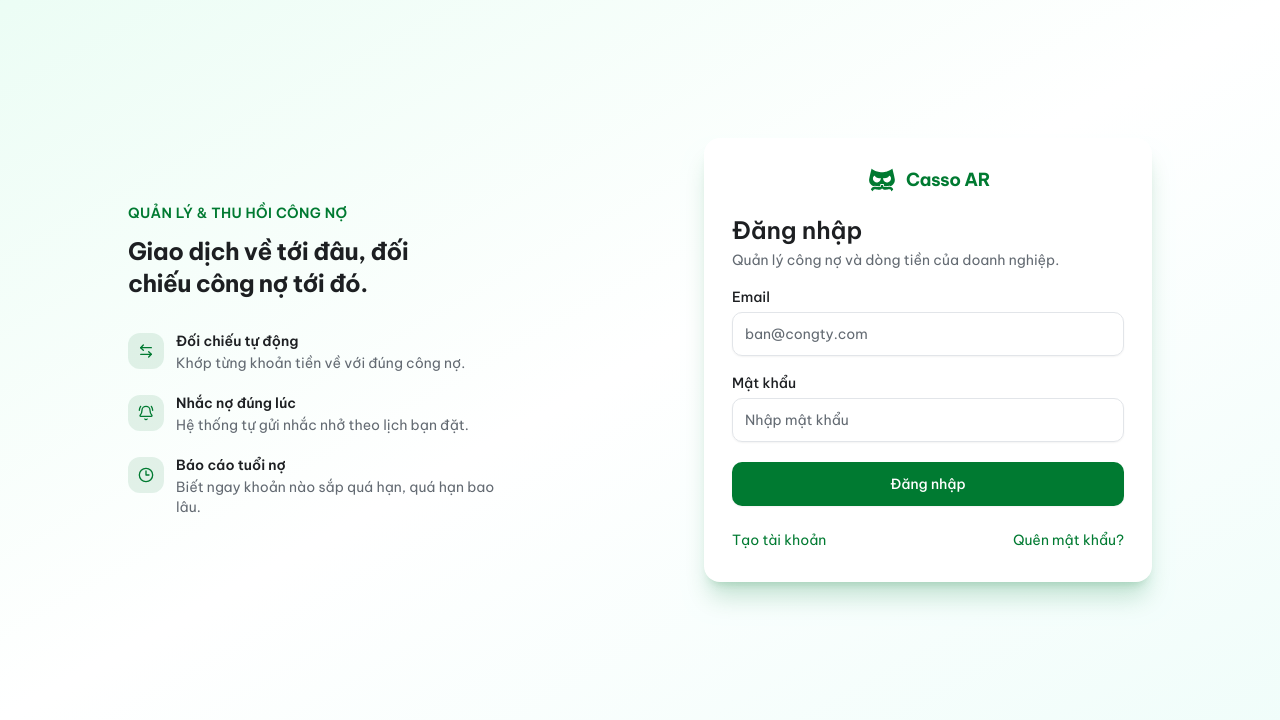
Test: LoginPage › tells a rate-limited user to wait instead of blaming their password
This screenshot has width=1280, height=720.
Type "owner@casso.vn" into the field labelled "Email" at (928,334), box top-left (732, 312), bottom-right (1124, 356)
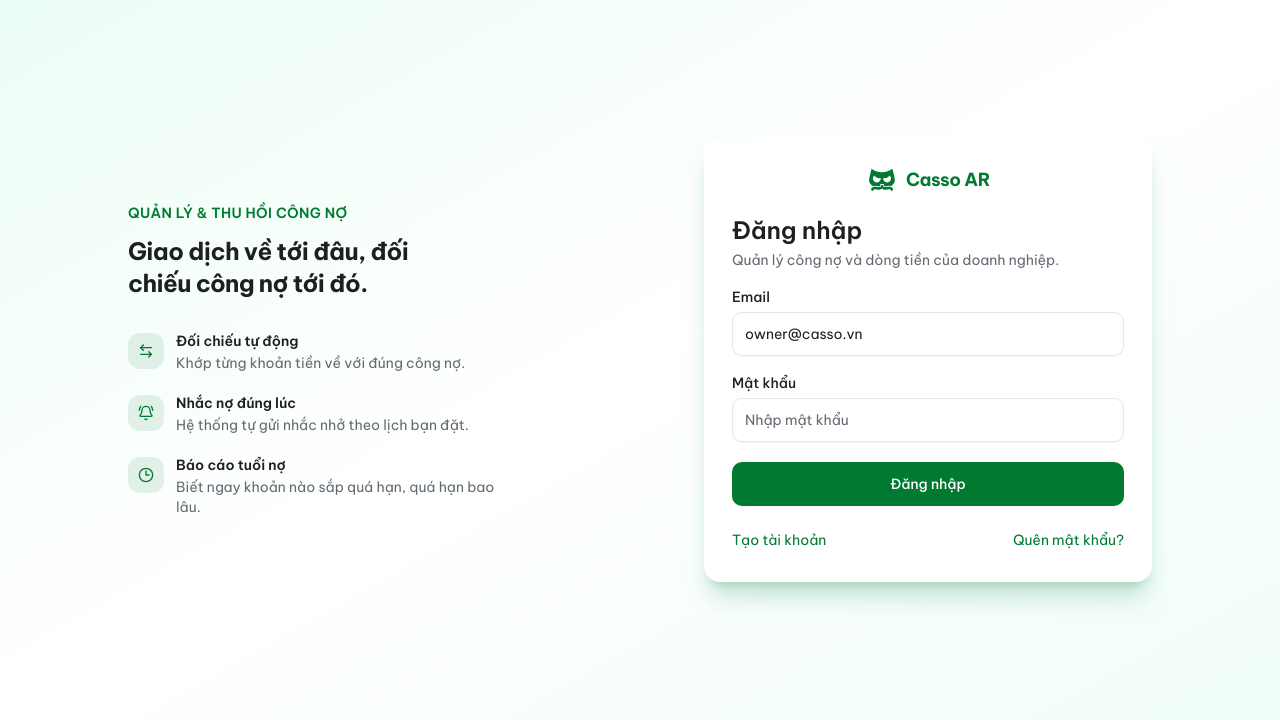
Type "secret123" into the password field labelled "Mật khẩu" at (928,420), box top-left (732, 398), bottom-right (1124, 442)
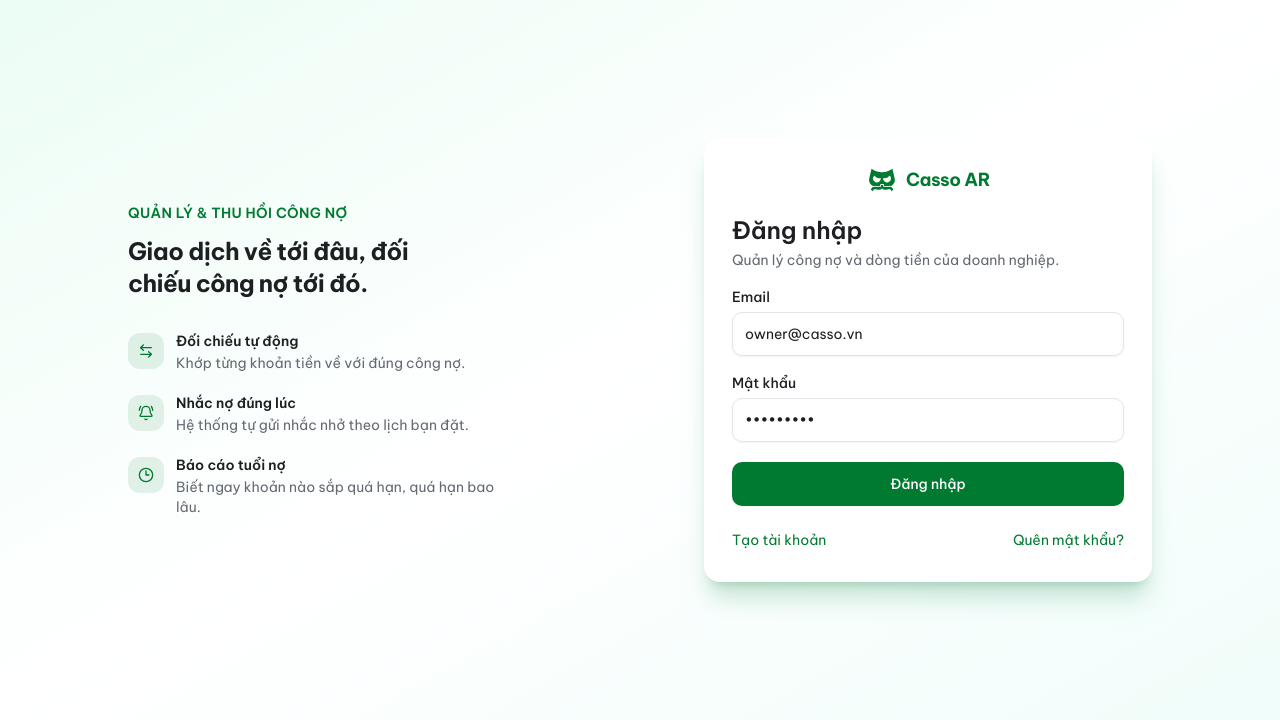
Click the button "Đăng nhập" at (928,484), box top-left (732, 462), bottom-right (1124, 506)
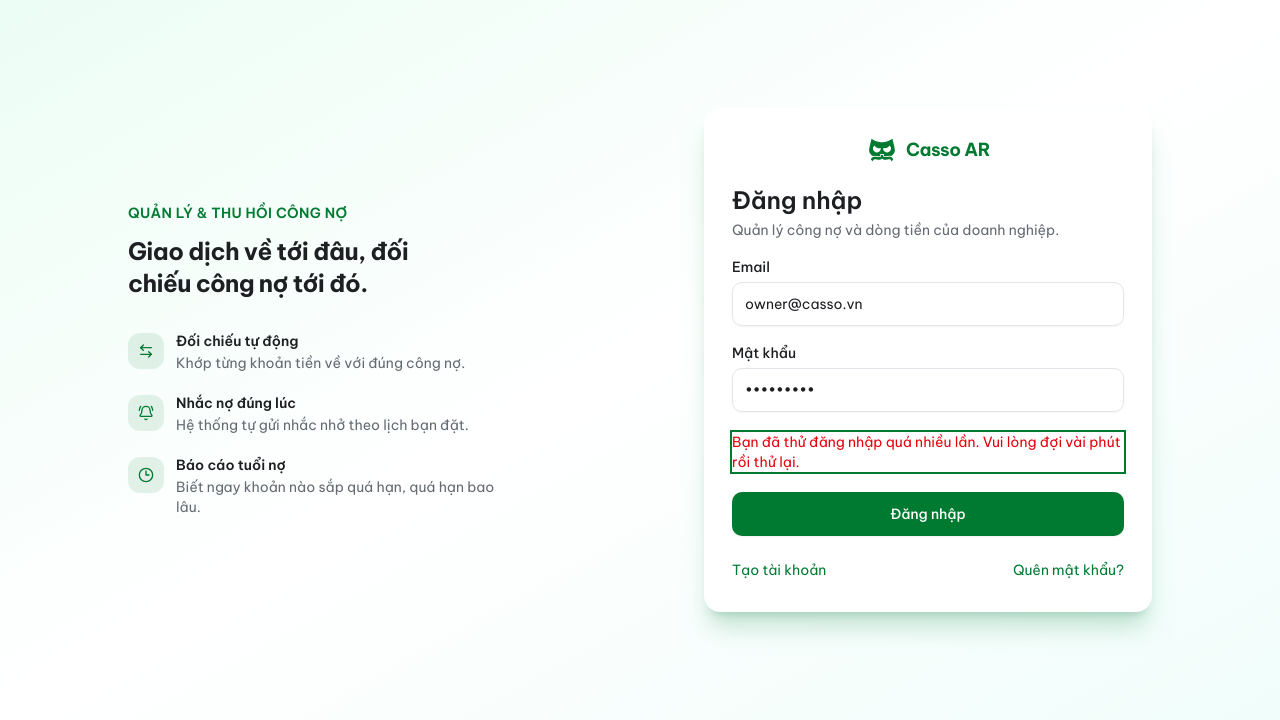
expect the text "Bạn đã thử đăng nhập quá nhiều lần. Vui lòng đợi vài phút rồi thử lại." is shown: met, box top-left (732, 432), bottom-right (1124, 472)
